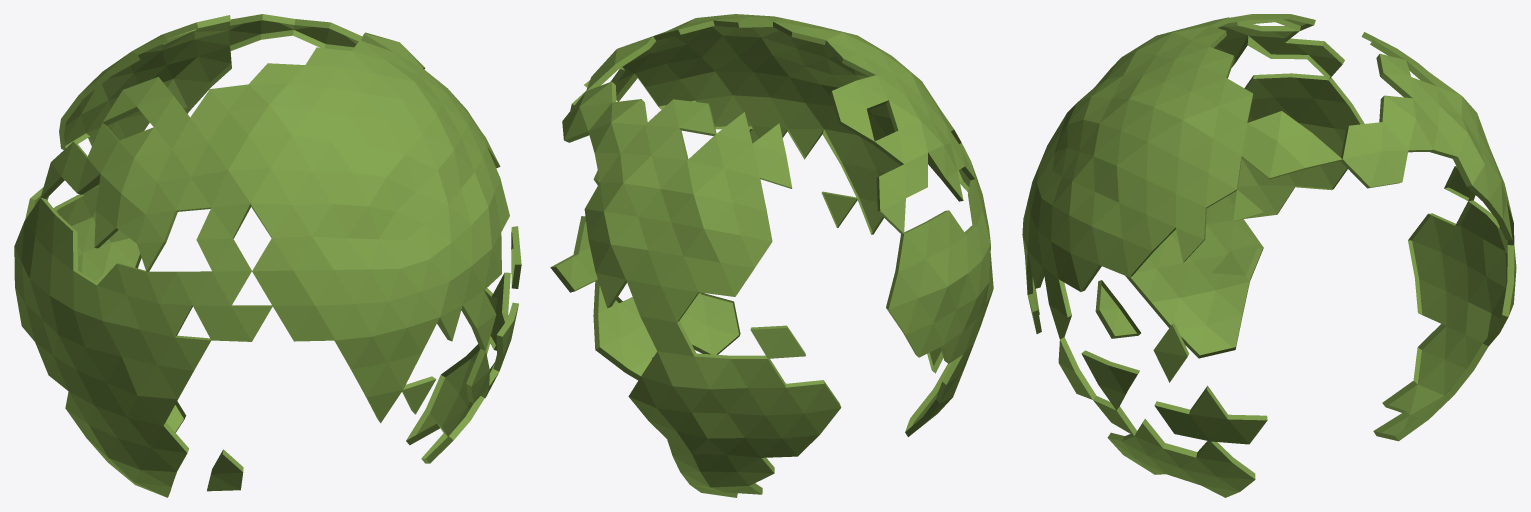
File: earth.gltf
3 renders of one model, left to right at view 1: azimuth 30°, elevation 25°; view 2: azimuth 150°, elevation 25°; view 3: azimuth 270°, elevation 25°, orthographic. The views are drawn at different scales.
Visible parts, largest first — view 1: URF-Height; view 2: URF-Height; view 3: URF-Height.
Part boxes in pixels (x1,y1,x2,y2): URF-Height: [14, 14, 521, 497]; URF-Height: [550, 14, 993, 497]; URF-Height: [1022, 14, 1516, 497].
Size of the model in its own units: 17.5 by 16.5 by 17.81.
